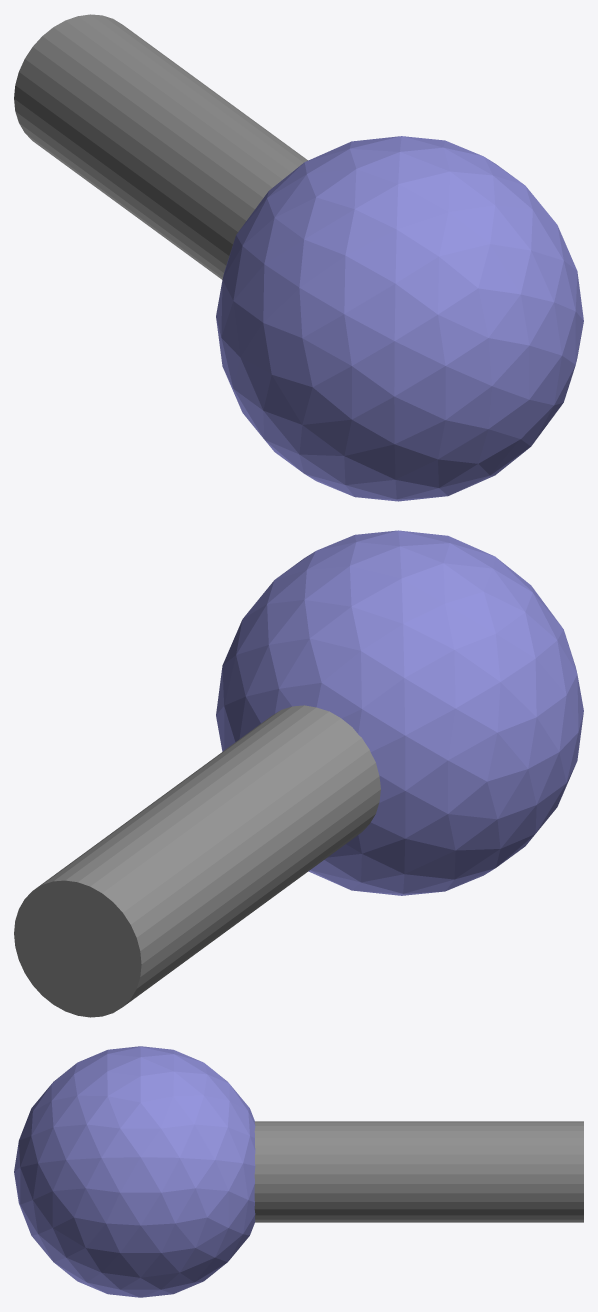
The model's file is astronav.glb.
3 renders of one model, top to bottom at view 1: azimuth 30°, elevation 25°; view 2: azimuth 150°, elevation 25°; view 3: azimuth 270°, elevation 25°, orthographic. The views are drawn at different scales.
Visible parts, largest first — view 1: world; view 2: world; view 3: world.
Part boxes in pixels (bbox=[...]): world: bbox=[14, 14, 583, 501]; world: bbox=[14, 530, 583, 1017]; world: bbox=[14, 1046, 583, 1297].
Bounding box in the file's own units: 1 × 1 × 2.25.
